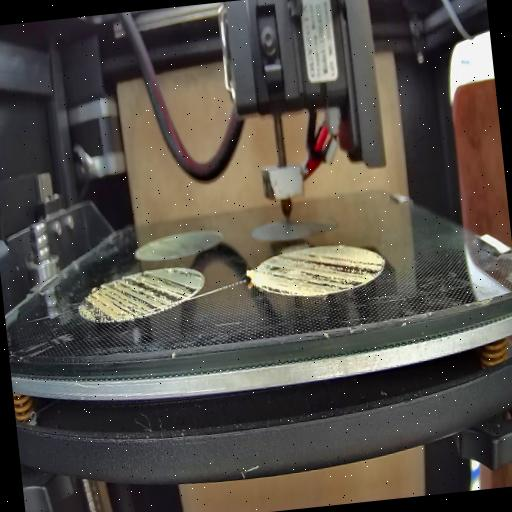under_extrusion: (258, 242, 390, 302), (79, 266, 202, 326)
